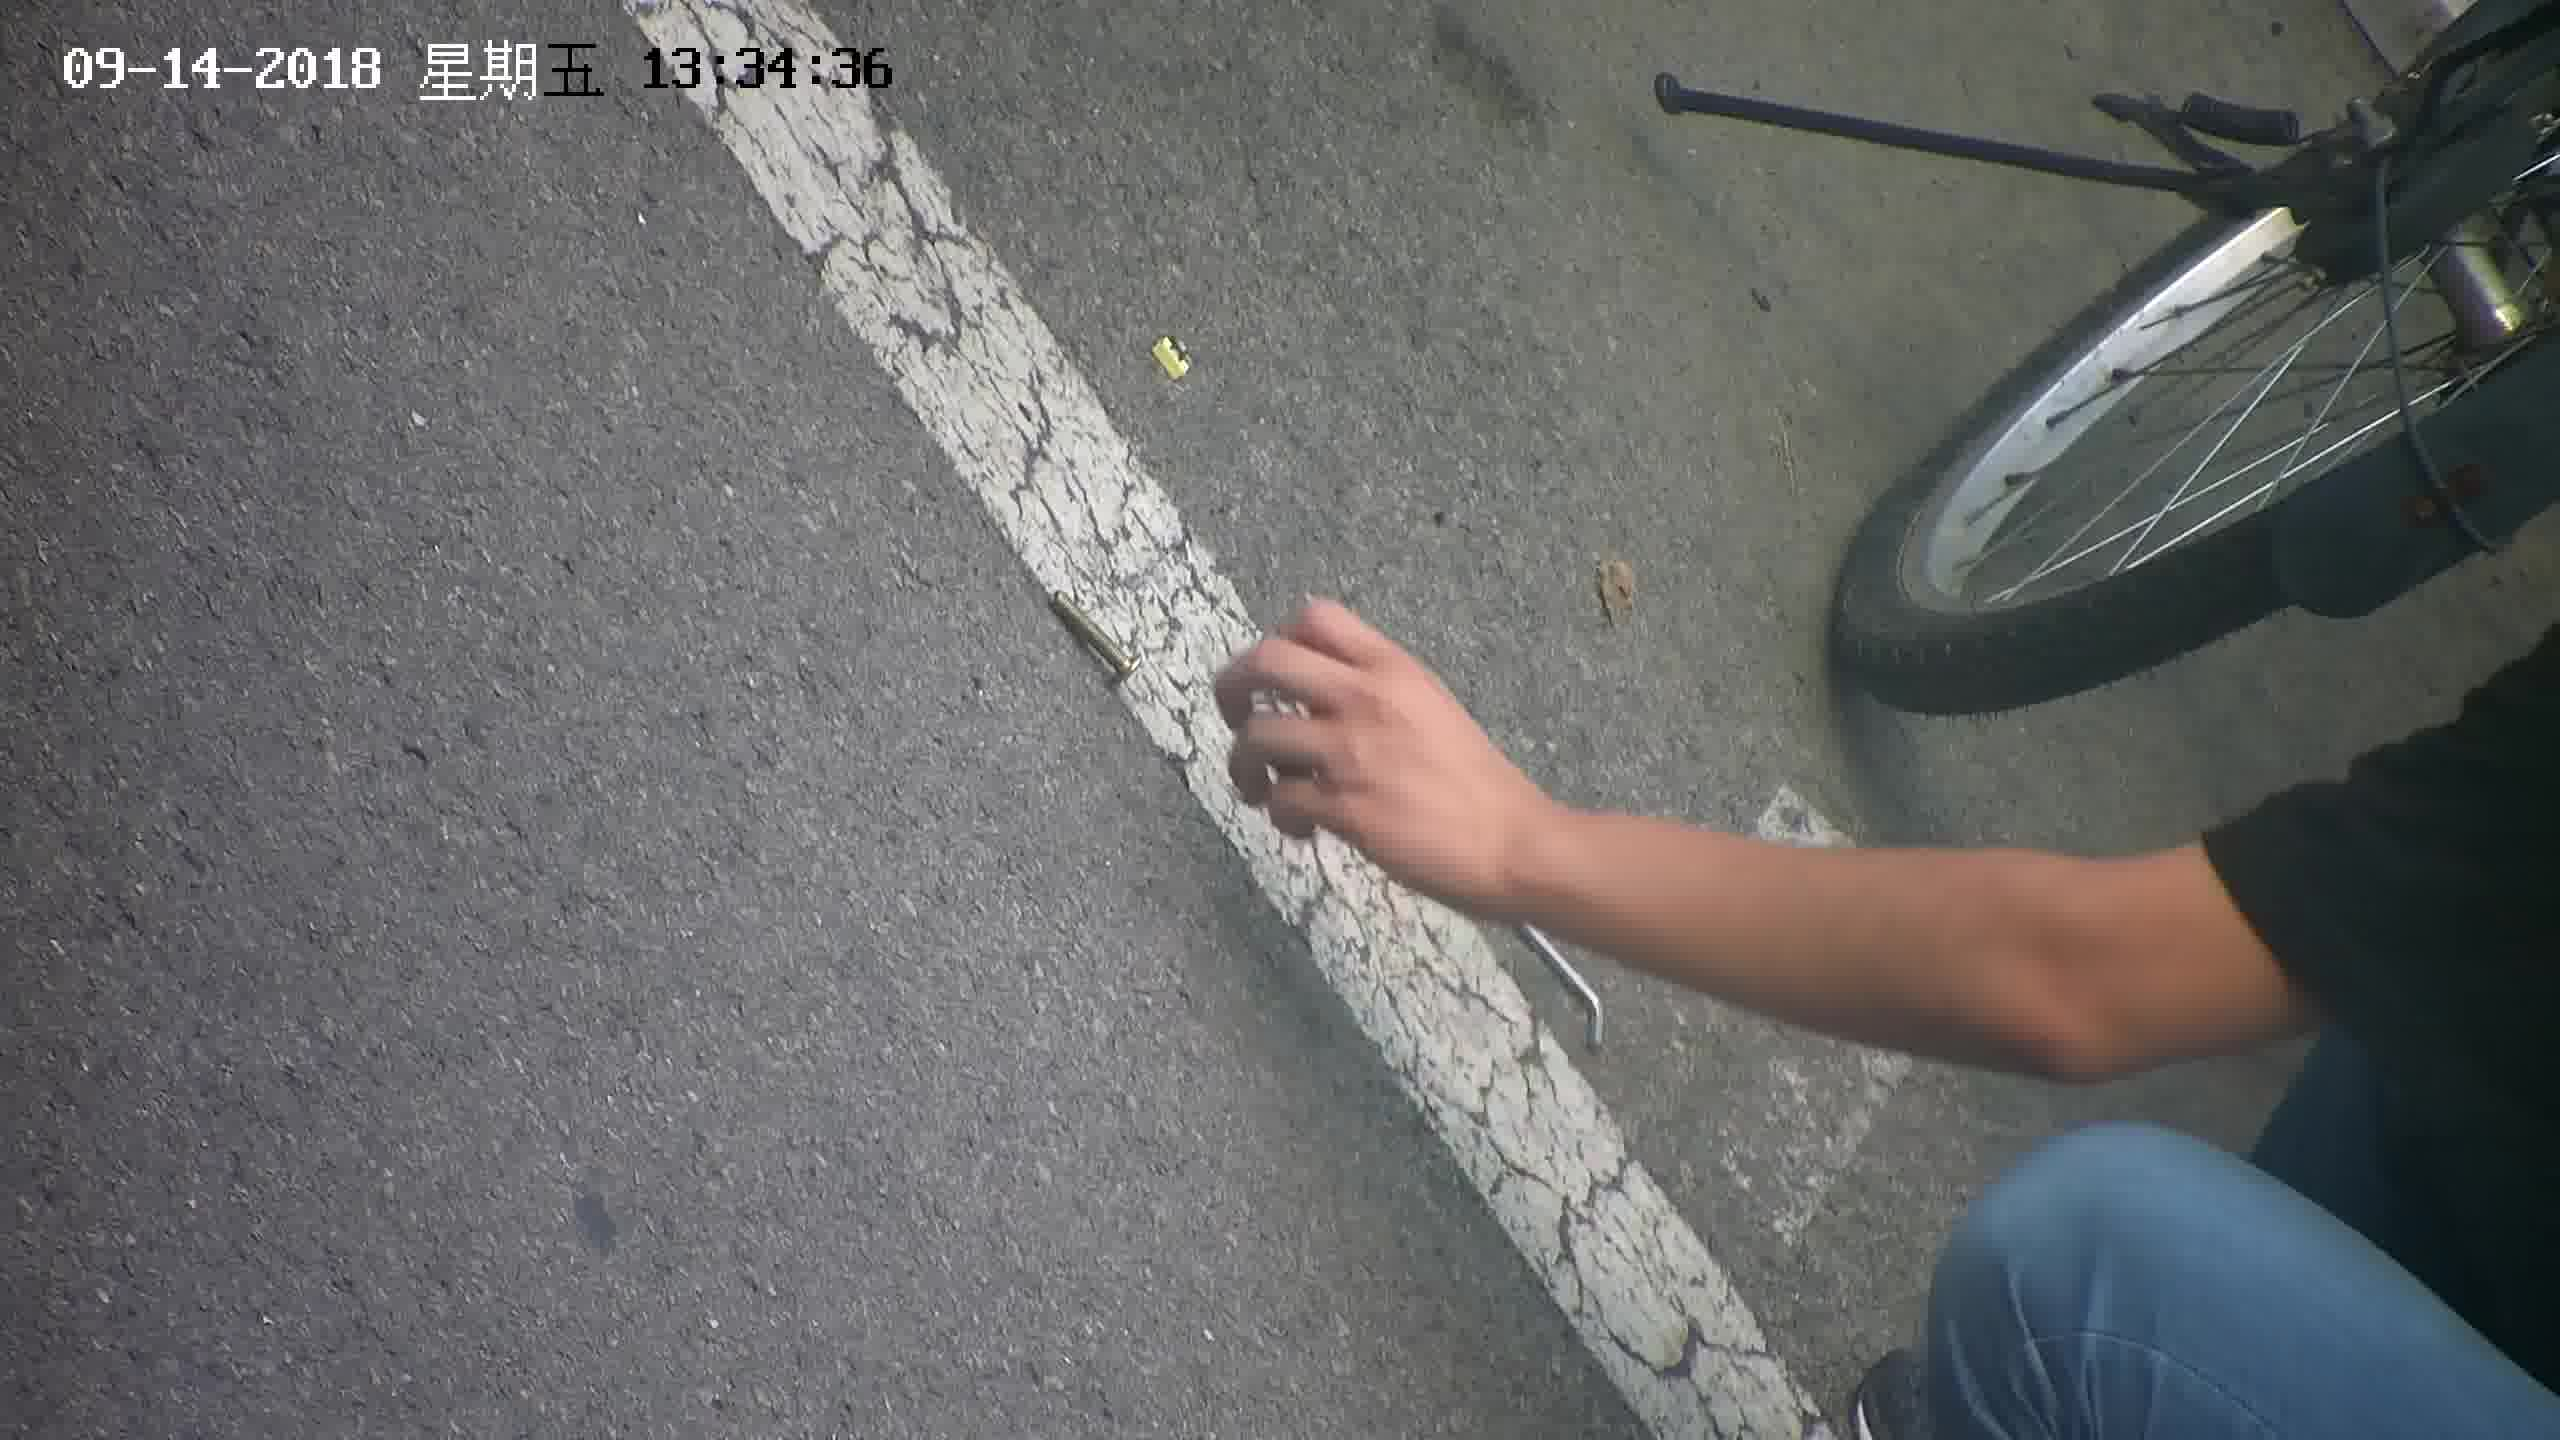L_stick: (1514, 920, 1611, 1058)
clip_Y: (1143, 329, 1199, 396)
nail: (1039, 578, 1153, 702)
